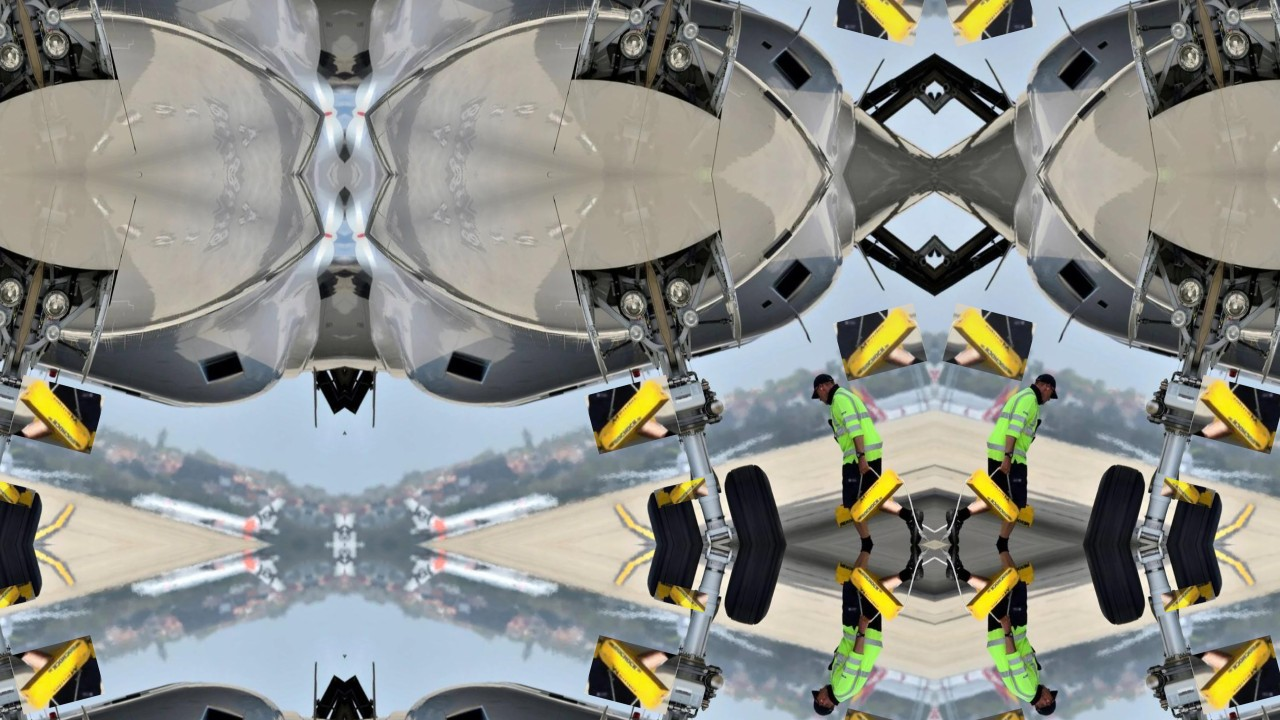chock: (8, 375, 105, 454), (584, 375, 681, 454), (8, 636, 105, 715), (584, 636, 681, 715), (833, 303, 928, 381), (942, 303, 1037, 381), (1189, 375, 1280, 454), (1189, 636, 1280, 715), (839, 465, 912, 525), (958, 465, 1031, 525), (839, 565, 912, 625), (958, 565, 1031, 625), (833, 0, 928, 46), (942, 0, 1037, 46), (832, 490, 896, 526), (974, 490, 1038, 526), (832, 564, 896, 600), (974, 564, 1038, 600), (654, 477, 709, 508), (1161, 477, 1216, 508), (654, 582, 709, 613), (1161, 582, 1216, 613), (0, 477, 35, 508), (0, 582, 35, 613), (833, 709, 928, 720), (942, 709, 1037, 720)
wheel: (718, 460, 797, 545), (1073, 460, 1152, 545), (718, 545, 797, 630), (1073, 545, 1152, 630), (640, 481, 718, 545), (1152, 481, 1230, 545), (640, 545, 718, 609), (1152, 545, 1230, 609), (0, 481, 49, 545), (0, 545, 49, 609)
